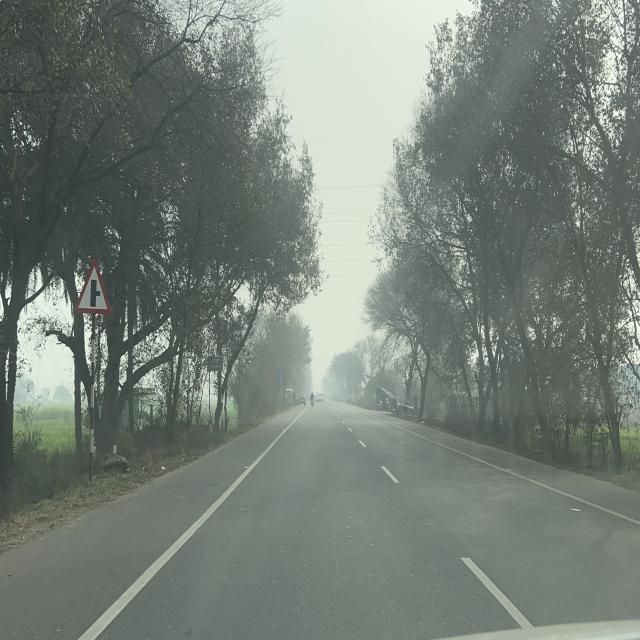GENERAL: (207, 356, 223, 371)
SIDE_ROAD_RIGHT: (74, 257, 110, 316)
